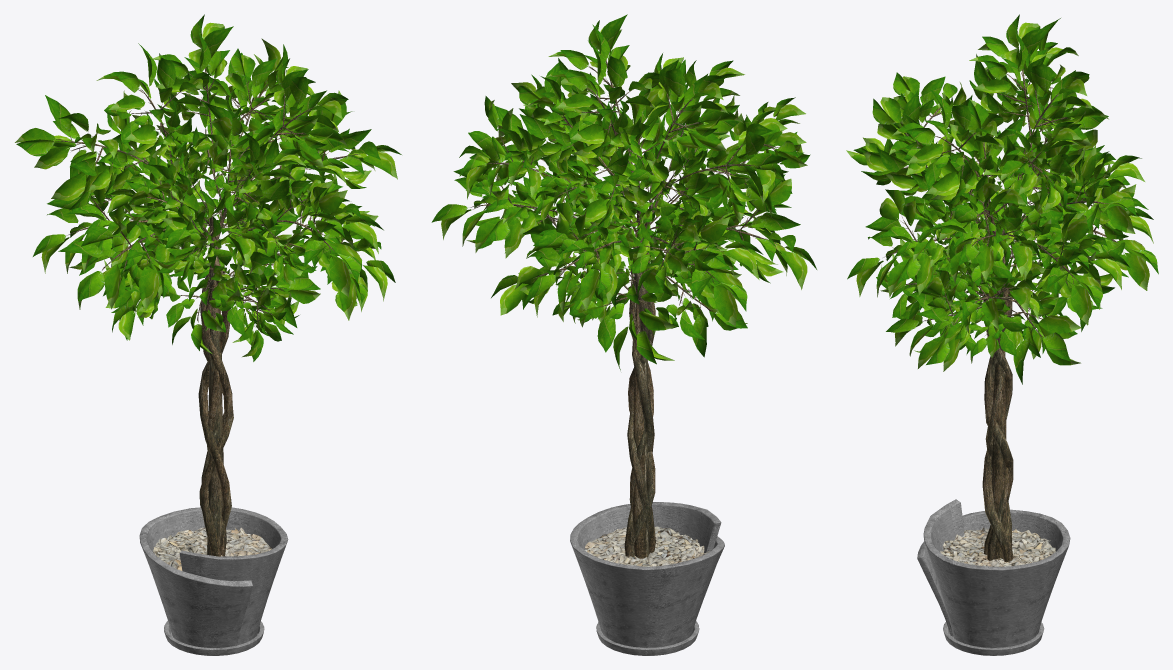
The model's file is Plant_2.fbx.
The picture shows the model from 3 angles, left to right: view 1: azimuth 30°, elevation 25°; view 2: azimuth 150°, elevation 25°; view 3: azimuth 270°, elevation 25°; orthographic projection. The views are drawn at different scales.
Parts seen in each view (by area): view 1: Plant_2; view 2: Plant_2; view 3: Plant_2.
Boxes of the visible parts, box(x1,y1,x2,y2) form: Plant_2: box(15, 14, 401, 655); Plant_2: box(431, 14, 816, 655); Plant_2: box(846, 14, 1158, 655).
Bounding box in the file's own units: 0.9505 × 1.58 × 0.7609.
